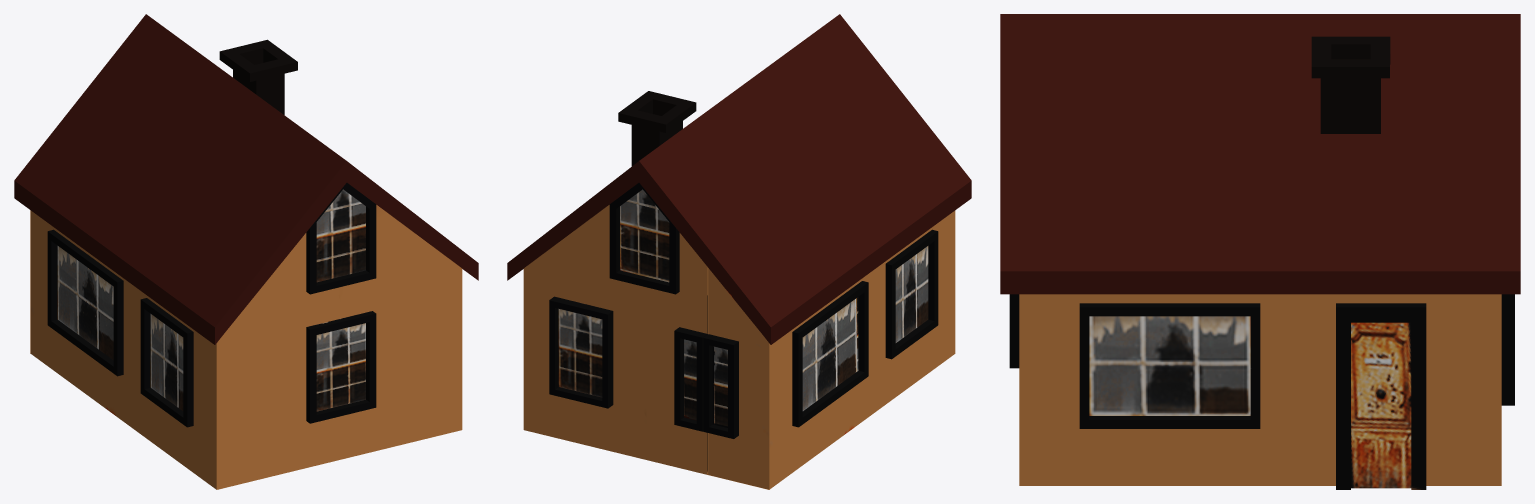
The model's file is house_dark.fbx.
3 views of the same model, side by side, from view 1: azimuth 30°, elevation 25°; view 2: azimuth 150°, elevation 25°; view 3: azimuth 270°, elevation 25° (orthographic). The views are drawn at different scales.
Visible parts, largest first — view 1: Cube; view 2: Cube; view 3: Cube.
Boxes of the visible parts, left/top/right/bottom form: Cube: left=14, top=14, right=478, bottom=489; Cube: left=507, top=14, right=971, bottom=489; Cube: left=1000, top=14, right=1520, bottom=489.
Size of the model in its own units: 300 by 331 by 395.
